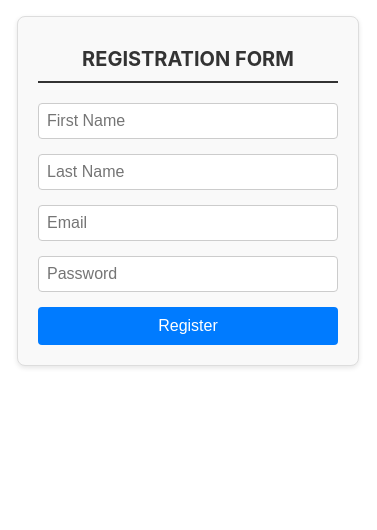
UserForm › when incorect email format should validate
This screenshot has width=377, height=530.
Type "invalidemail" into the field with placeholder "Email". click: (188, 223)
box: [38, 205, 338, 241]
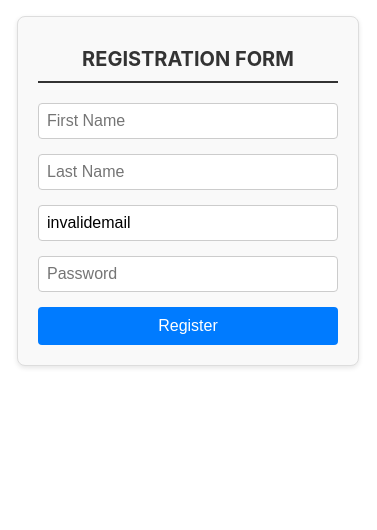
Click the button "Register". click: click(188, 326)
box: [38, 307, 338, 345]
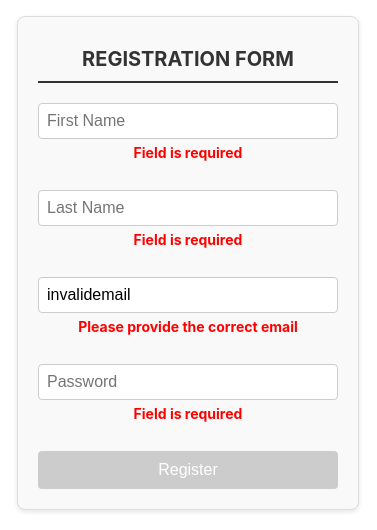
Check: the text "Please provide the correct email" is shown, box [78, 318, 298, 335]
